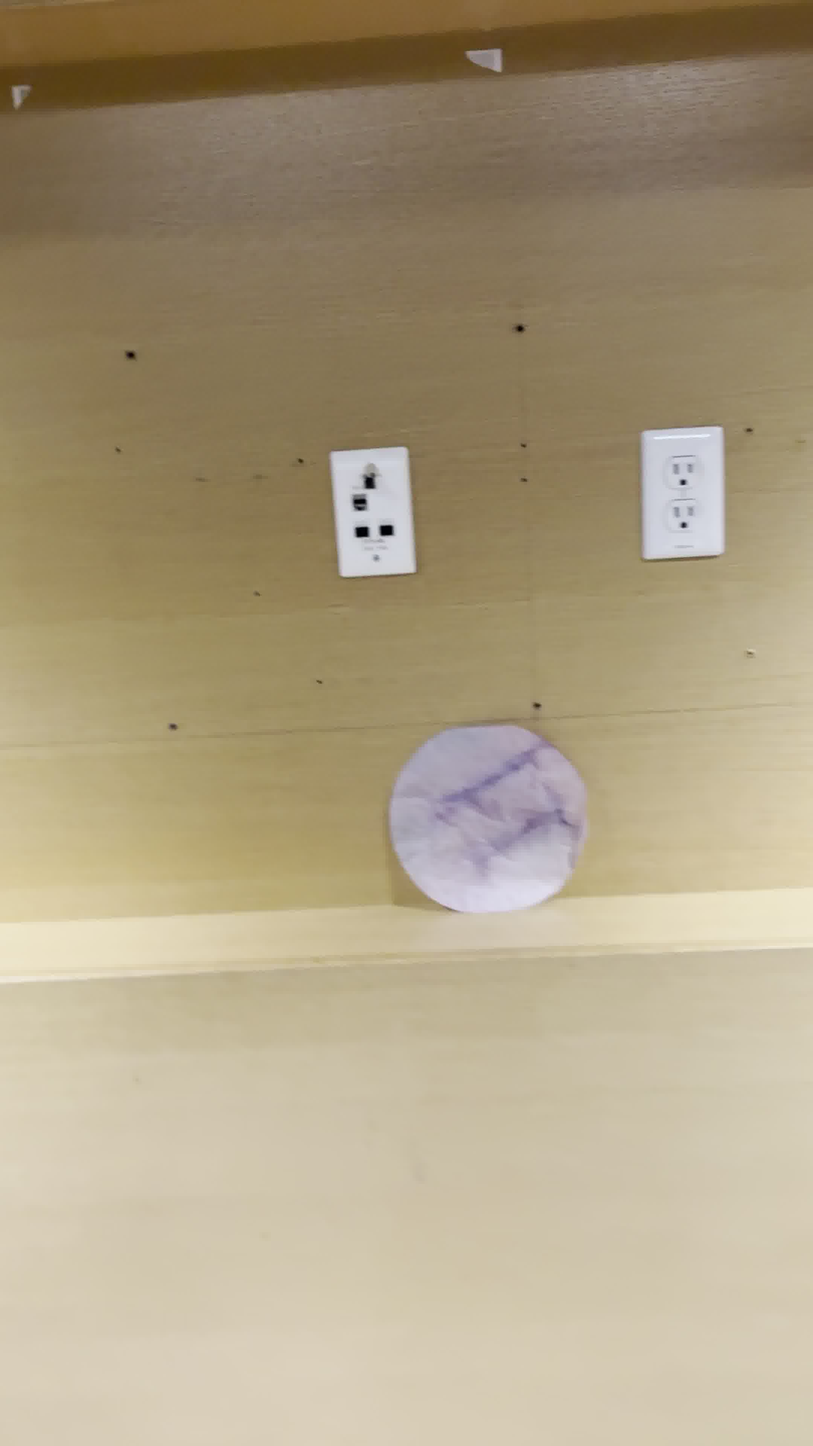Target: (382, 723, 588, 915)
